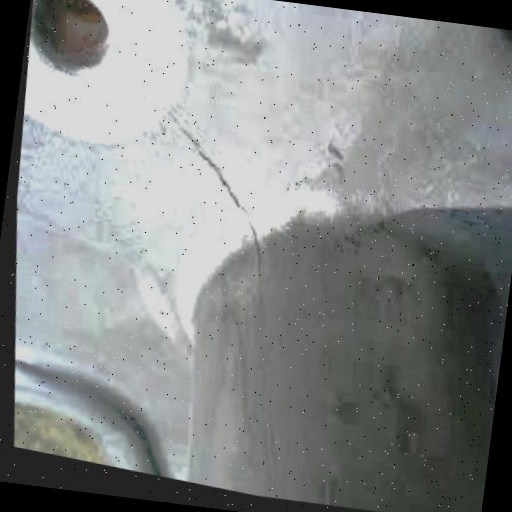crack: (121, 85, 306, 313)
